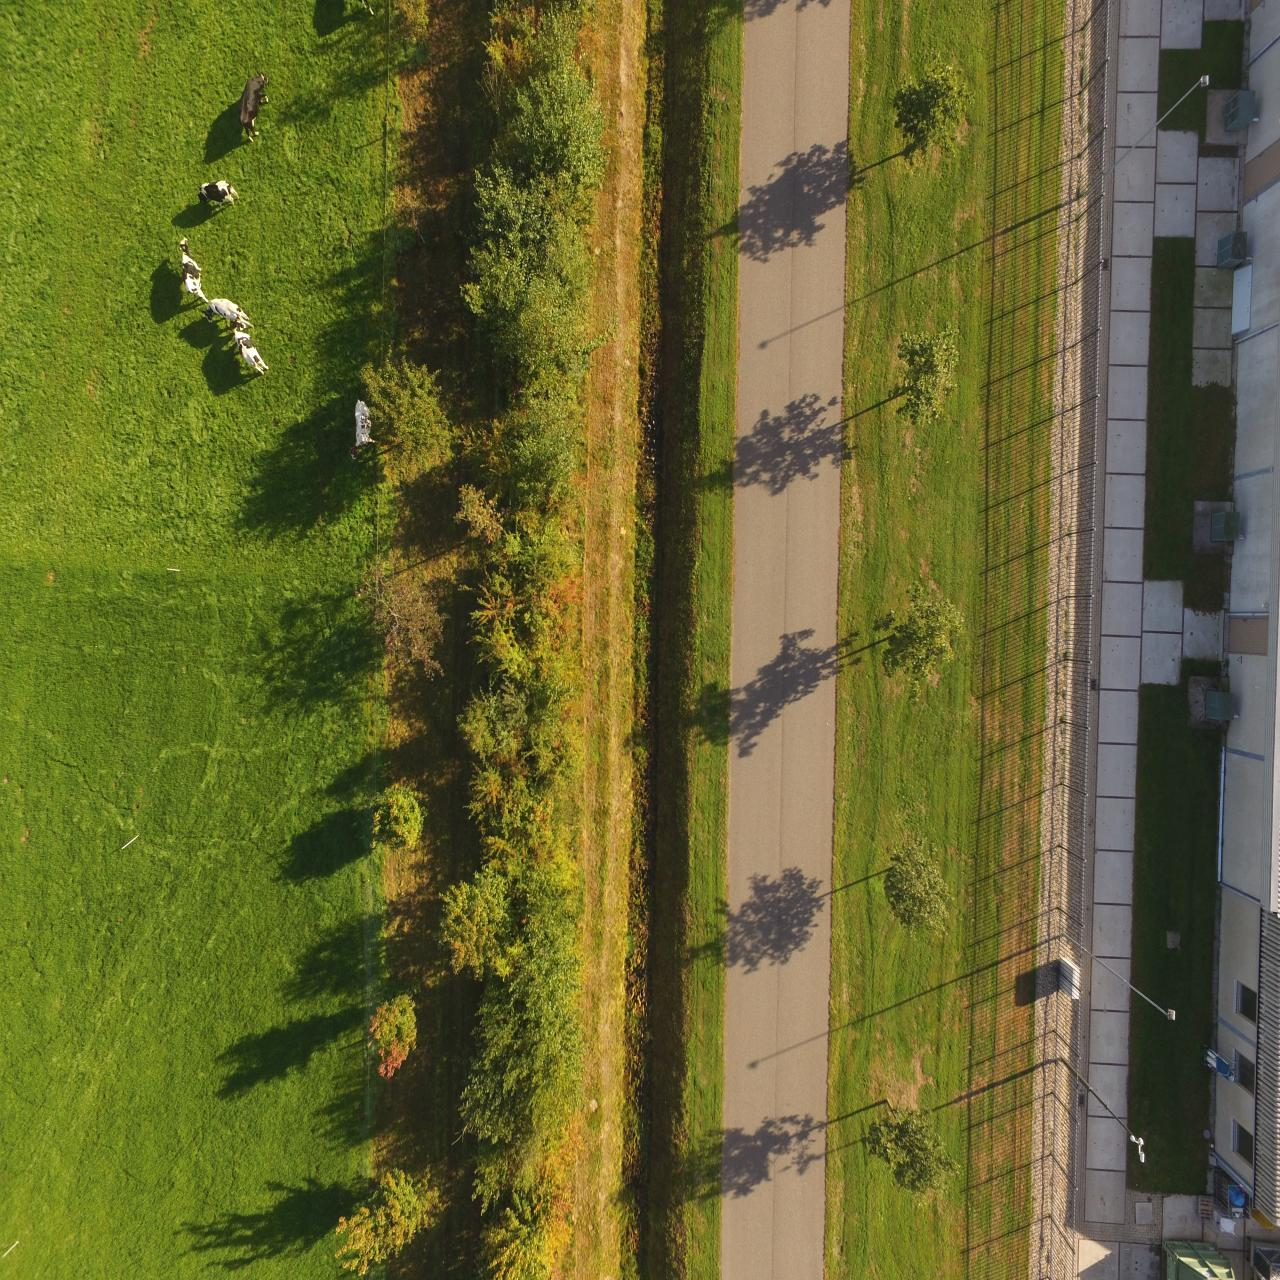cow: (240, 63, 273, 149), (346, 397, 381, 464), (176, 239, 211, 305), (232, 328, 268, 377), (206, 294, 257, 328), (192, 181, 241, 209), (359, 4, 373, 15)
